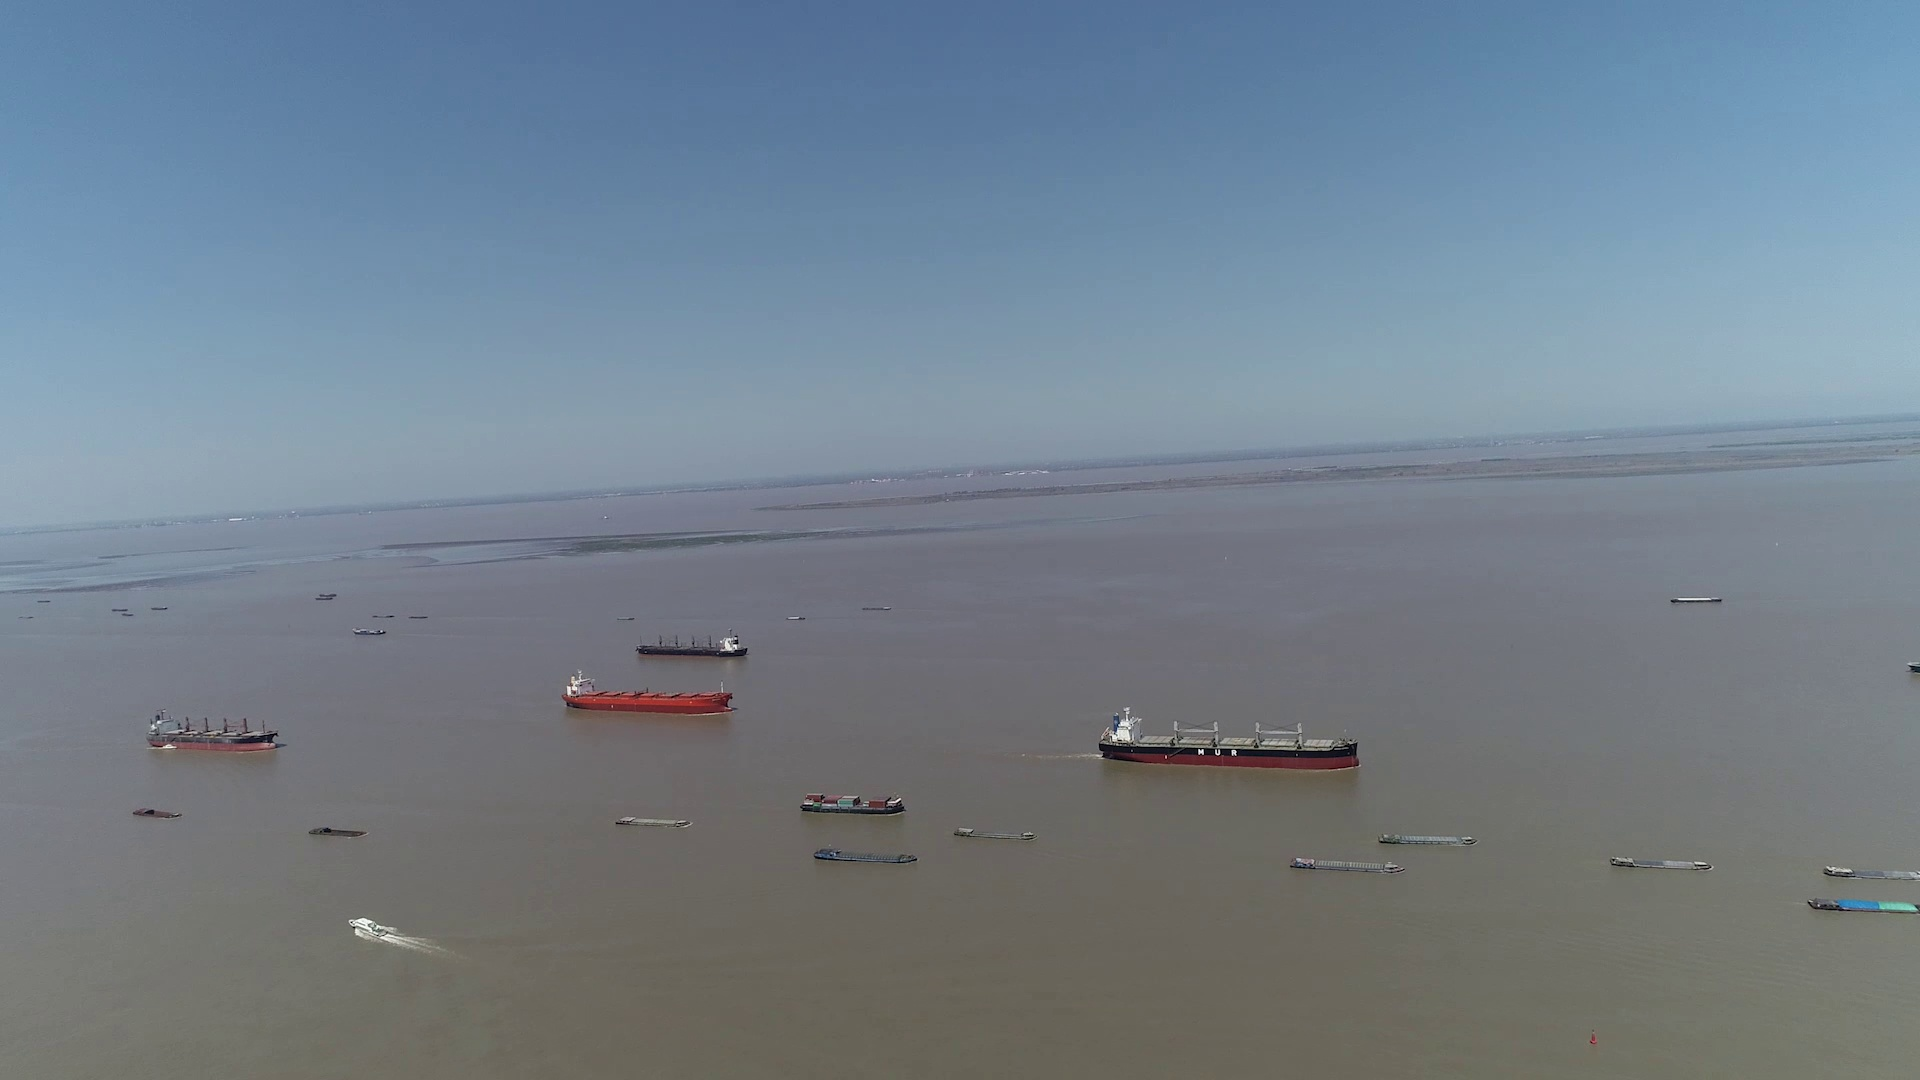ship: (1098, 704, 1360, 770), (560, 671, 729, 715), (146, 705, 278, 752), (636, 630, 748, 657), (1288, 855, 1404, 876), (800, 793, 906, 814), (1801, 899, 1917, 916), (812, 847, 918, 864), (1611, 855, 1713, 872), (1822, 864, 1916, 881), (1377, 831, 1473, 847), (349, 915, 400, 942), (953, 824, 1036, 840), (611, 814, 688, 827), (309, 825, 368, 837), (132, 807, 179, 820), (1669, 595, 1721, 604), (352, 624, 386, 636)
